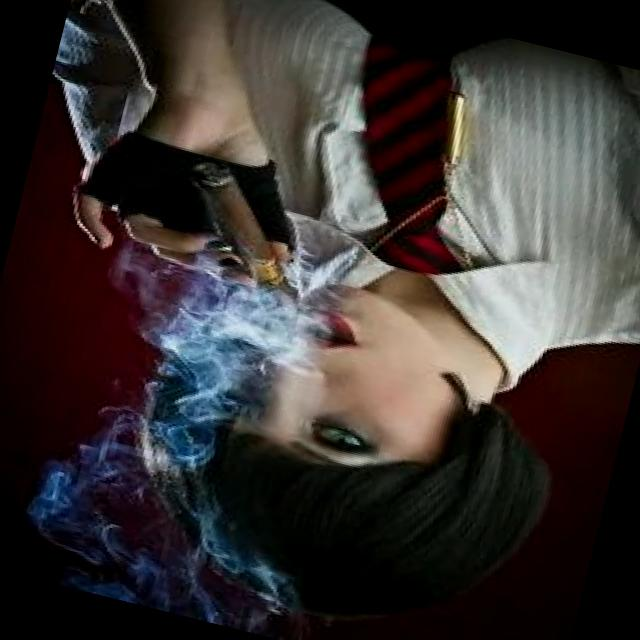cigarette: (154, 148, 340, 334)
